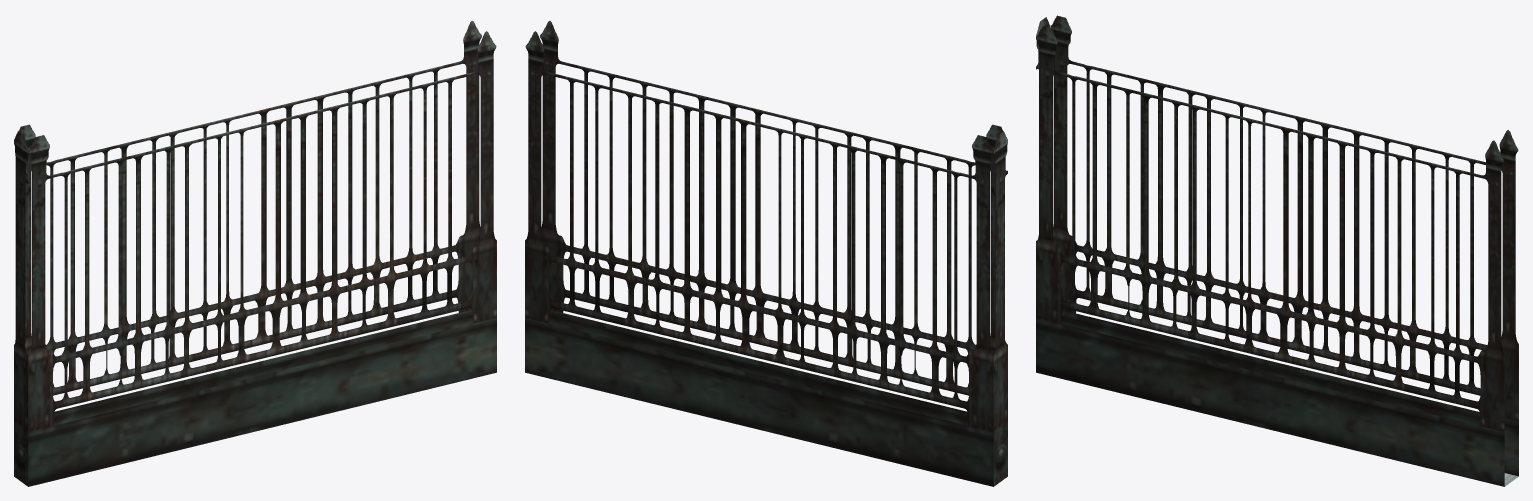
File: ParkFence.fbx
The picture shows the model from 3 angles, left to right: view 1: azimuth 30°, elevation 25°; view 2: azimuth 150°, elevation 25°; view 3: azimuth 330°, elevation 25°; orthographic projection.
Parts seen in each view (by area): view 1: EntraceGateB04; view 2: EntraceGateB04; view 3: EntraceGateB04.
Boxes of the visible parts, x1,y1,x2,y2 form: EntraceGateB04: [14, 21, 496, 486]; EntraceGateB04: [525, 21, 1007, 486]; EntraceGateB04: [1036, 15, 1518, 486].
Bounding box in the file's own units: 0.7873 × 0.5589 × 0.0417.
